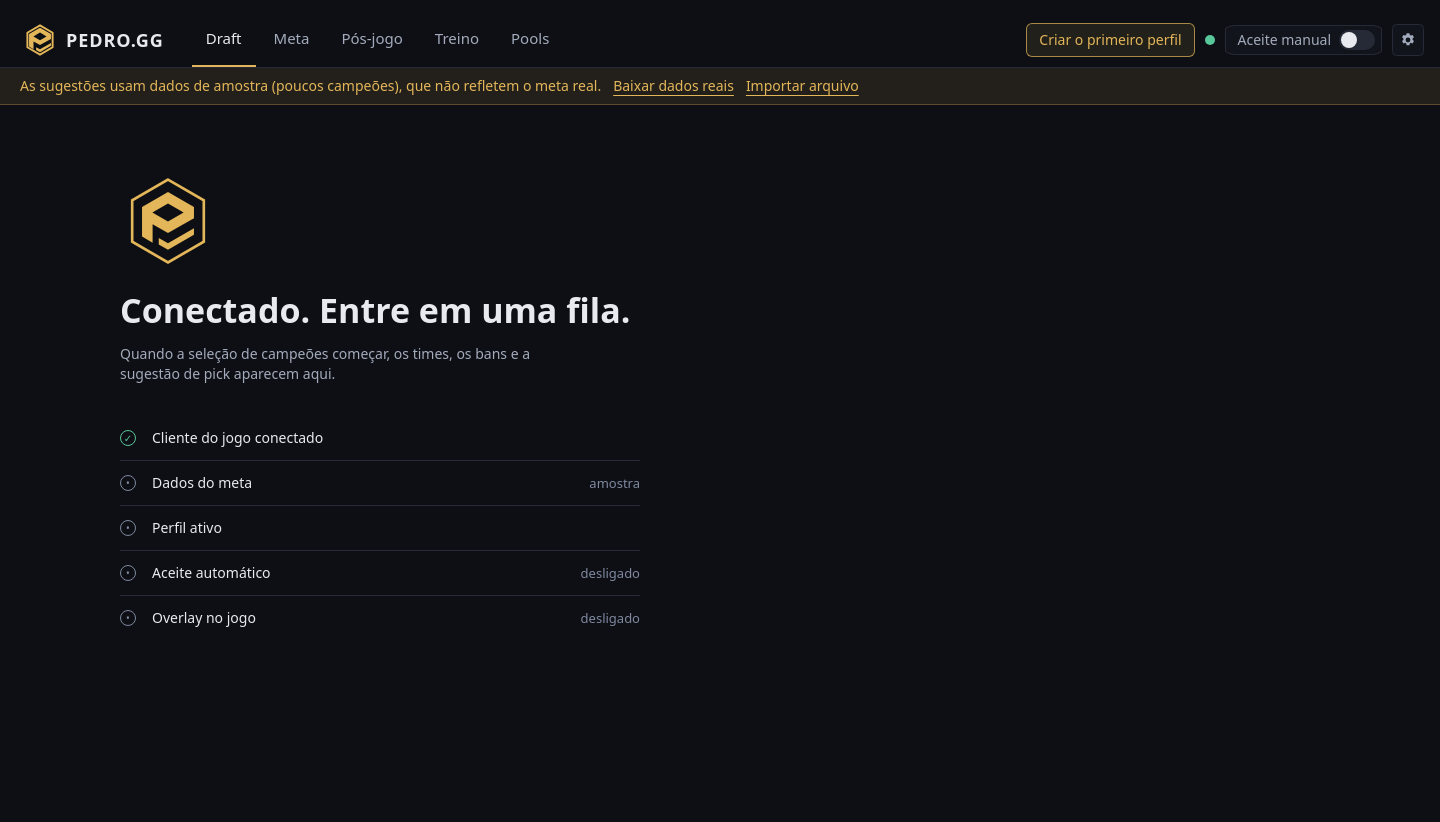
Test: Companion App › editor de Pool: não deixa salvar sem apelido
Click the button "Criar o primeiro perfil" at (1110, 40), box [1026, 22, 1194, 56]
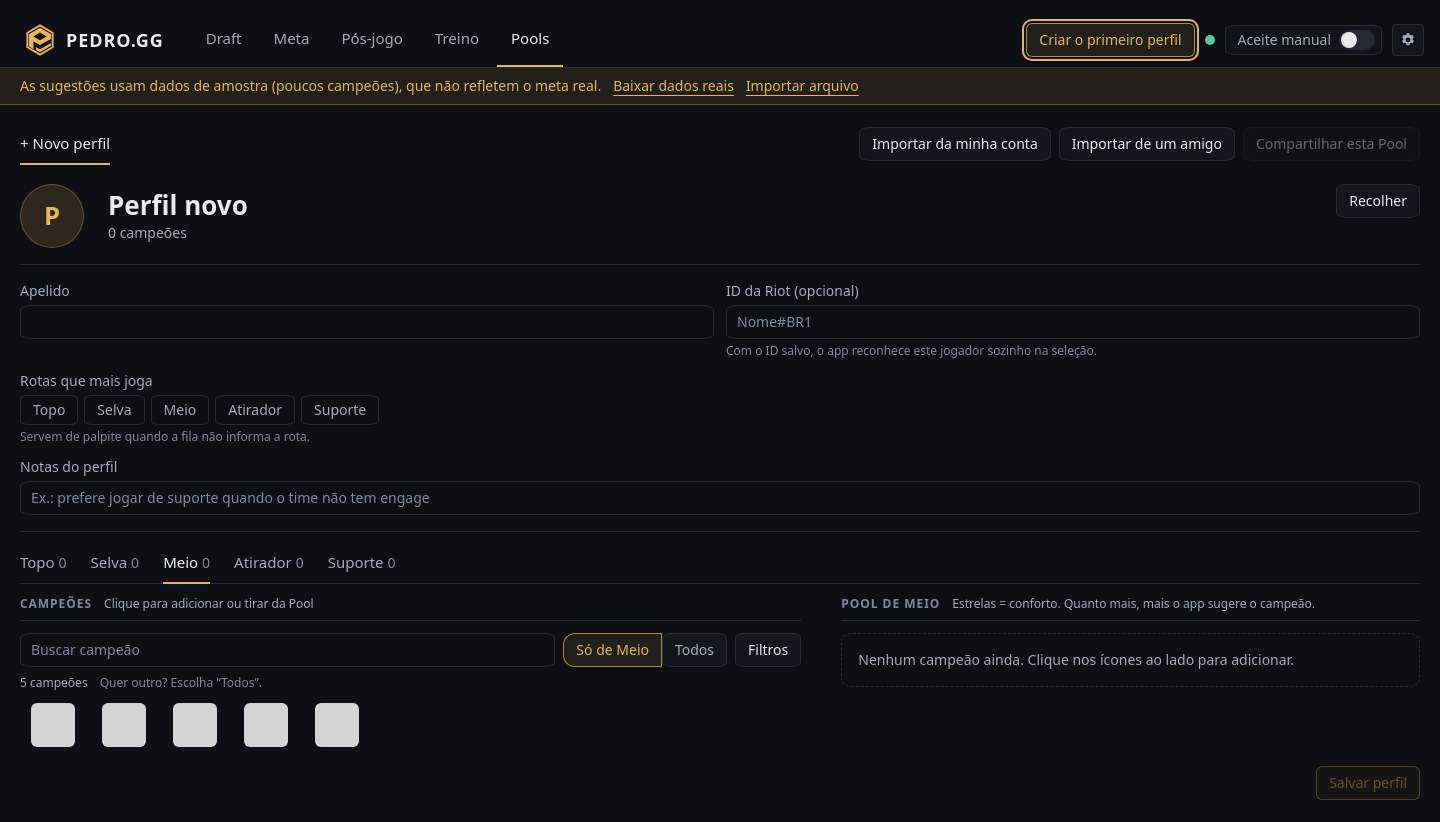
Type "teste" into the field labelled "Notas do perfil" at (720, 498), box [20, 481, 1420, 515]
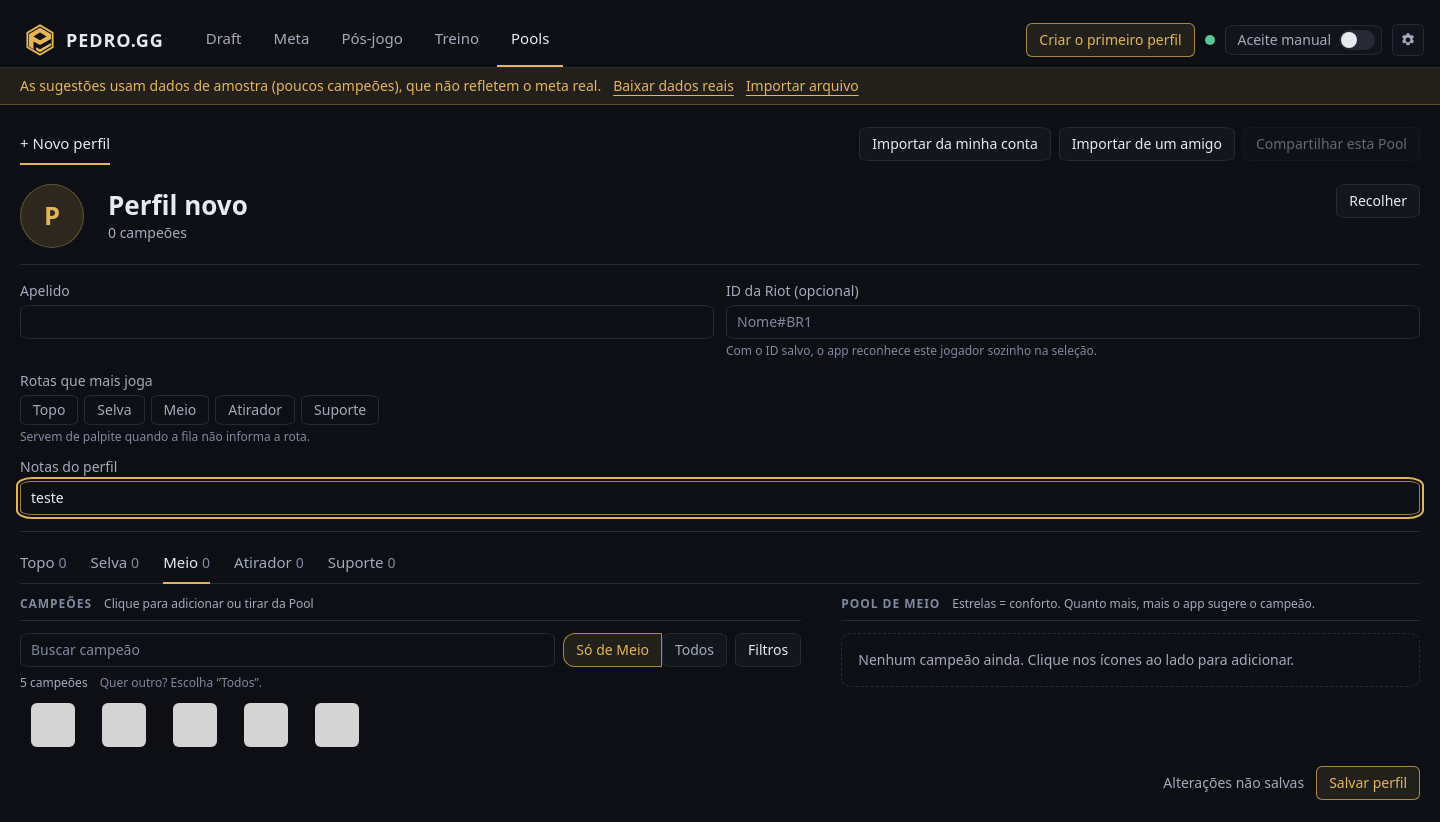
Click the button "Salvar perfil" at (1368, 783), box [1316, 766, 1420, 800]
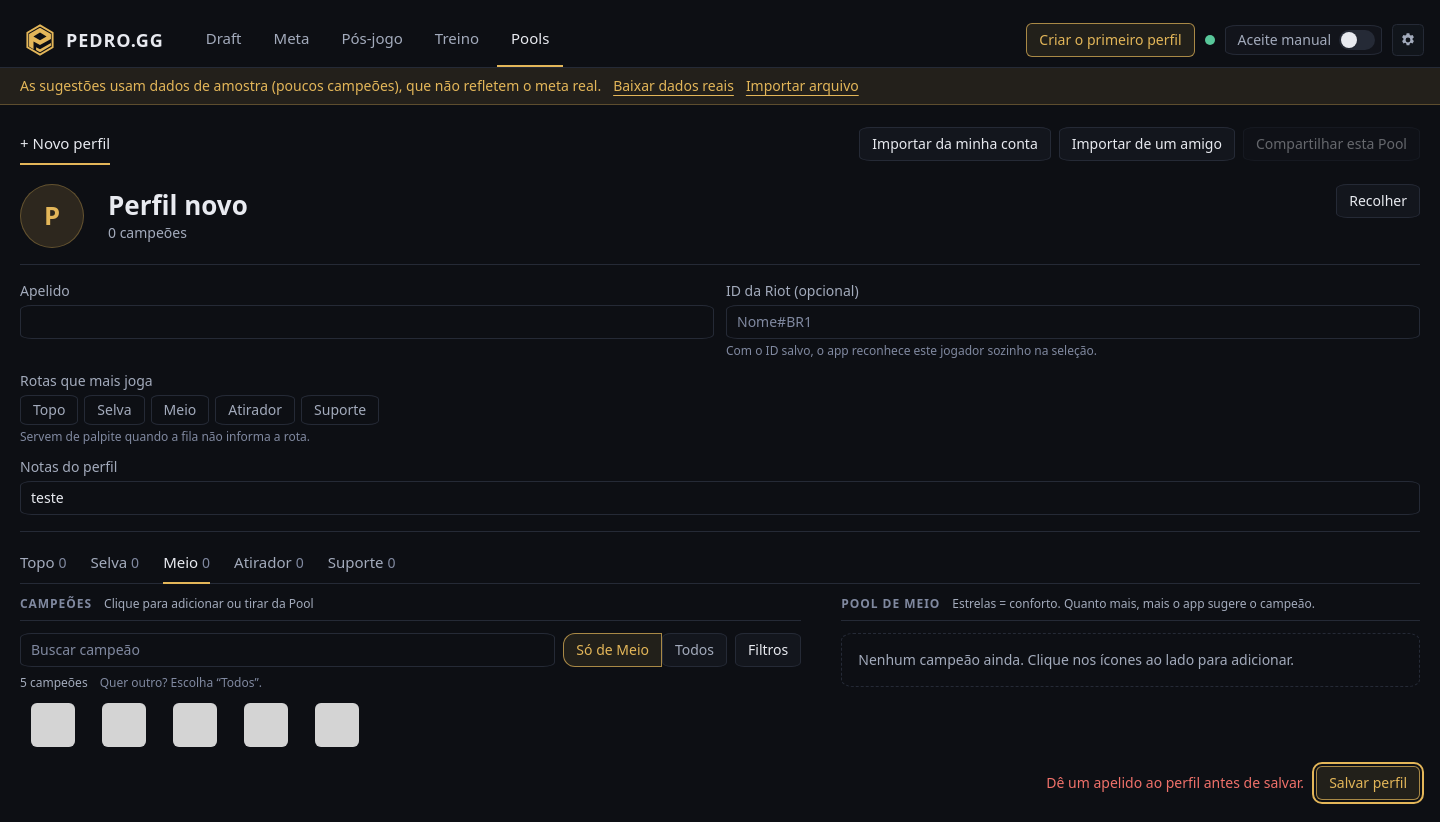
Result: the message "Dê um apelido ao perfil antes de salvar." is shown at [1046, 773, 1304, 793]
